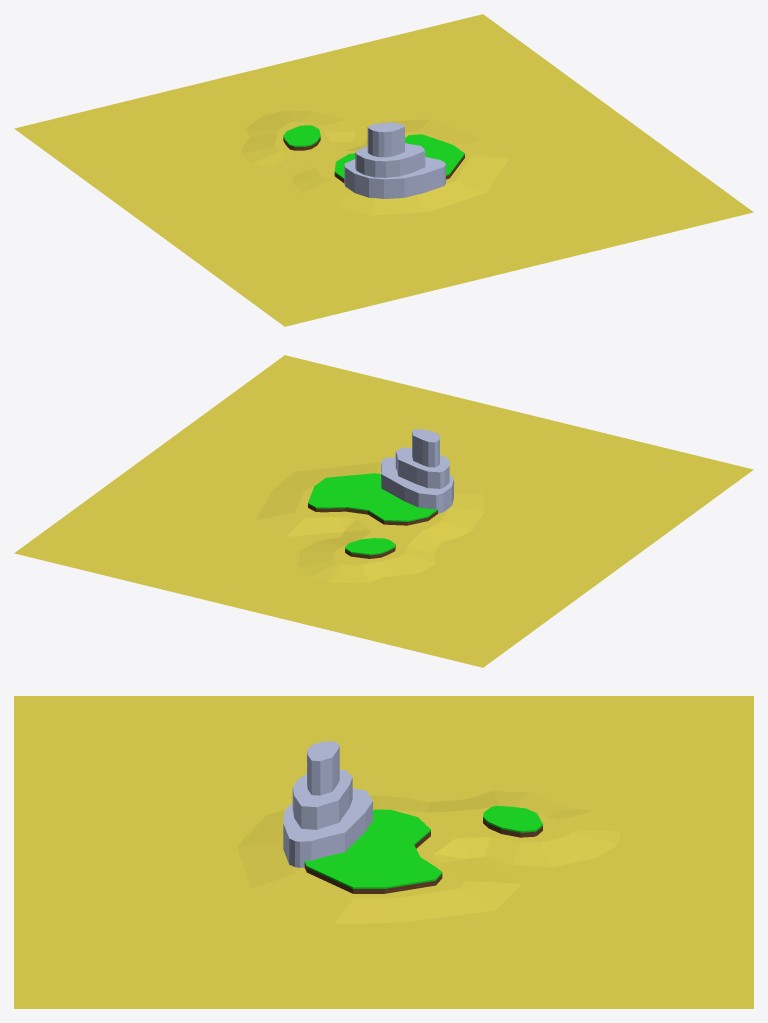
The model's file is island_new.glb.
3 renders of one model, top to bottom at view 1: azimuth 30°, elevation 25°; view 2: azimuth 150°, elevation 25°; view 3: azimuth 270°, elevation 25°, orthographic. The views are drawn at different scales.
Parts seen in each view (by area): view 1: Plane, Sand, Volcano, VolcanoMiddle, Island, VolcanoTop, Island2; view 2: Plane, Sand, Island, Volcano, VolcanoMiddle, VolcanoTop, Island2; view 3: Plane, Sand, Island, Volcano, VolcanoMiddle, VolcanoTop, Island2.
Boxes of the visible parts, x1,y1,x2,y2 form: Plane: [14, 14, 753, 326]; Sand: [240, 110, 509, 215]; Volcano: [344, 156, 445, 198]; VolcanoMiddle: [355, 143, 425, 177]; Island: [334, 134, 464, 182]; VolcanoTop: [367, 122, 404, 157]; Island2: [283, 125, 320, 150]; Plane: [14, 355, 753, 667]; Sand: [256, 462, 484, 583]; Island: [308, 473, 437, 525]; Volcano: [381, 457, 453, 513]; VolcanoMiddle: [395, 447, 449, 488]; VolcanoTop: [412, 429, 439, 467]; Island2: [345, 538, 395, 558]; Plane: [14, 696, 753, 1008]; Sand: [237, 791, 620, 924]; Island: [304, 809, 442, 893]; Volcano: [283, 788, 372, 867]; VolcanoMiddle: [292, 769, 352, 829]; VolcanoTop: [307, 741, 339, 795]; Island2: [483, 805, 542, 837].
Bounding box in the file's own units: 400 × 52.65 × 400.
